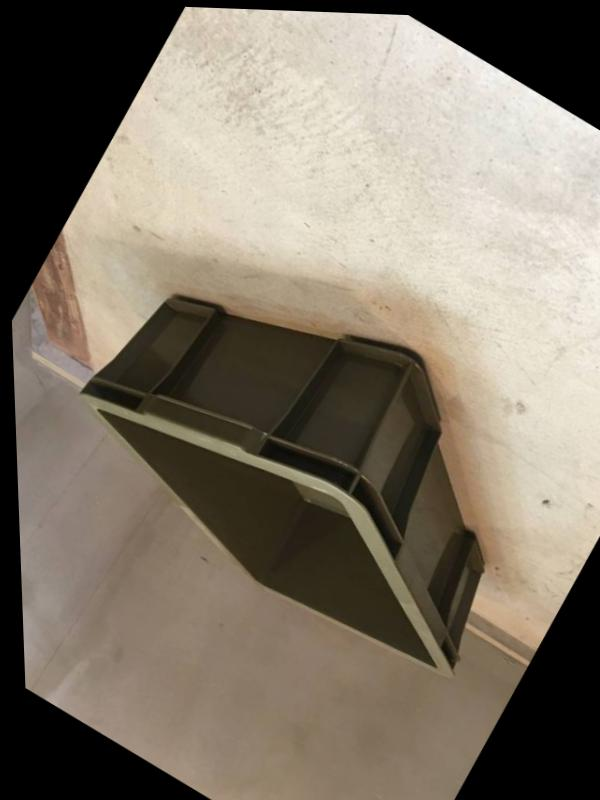plastic: (27, 297, 511, 748)
